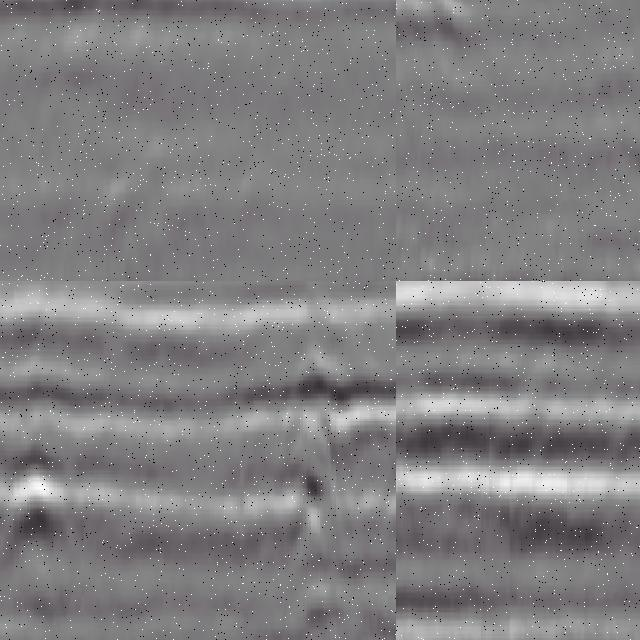loose: (288, 347, 397, 530), (397, 1, 490, 200)
